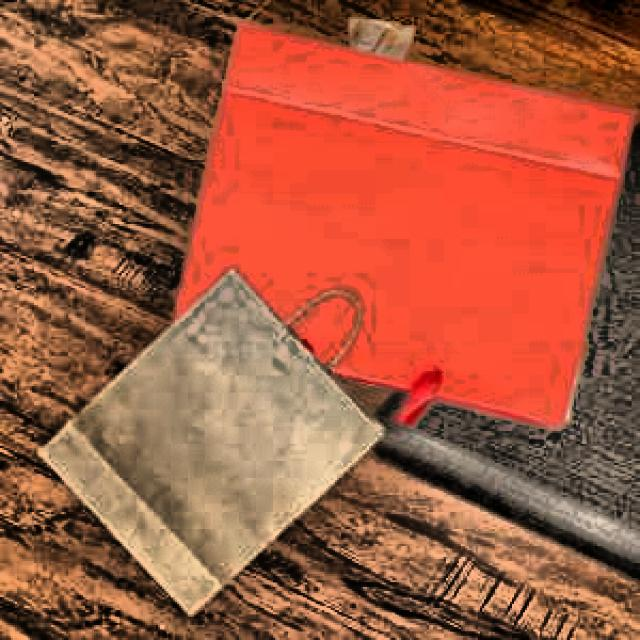Paper-bag: (163, 9, 640, 439), (52, 265, 395, 618)
